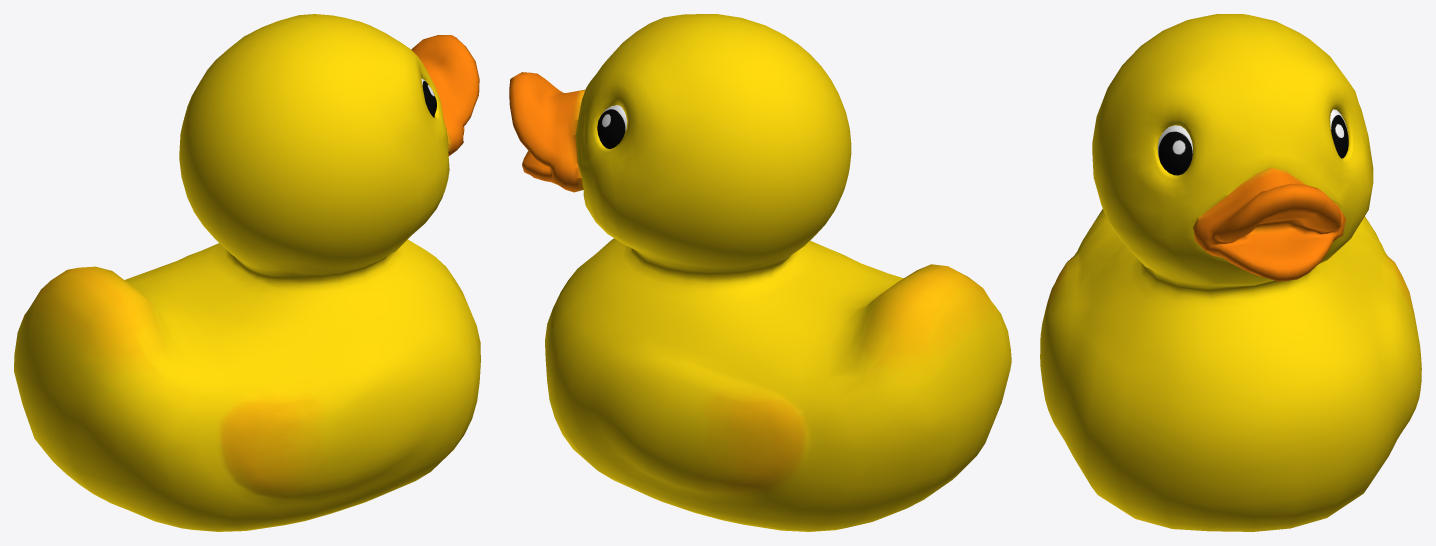
The model's file is Duck-transformed.glb.
3 renders of one model, left to right at view 1: azimuth 30°, elevation 25°; view 2: azimuth 150°, elevation 25°; view 3: azimuth 270°, elevation 25°, orthographic. The views are drawn at different scales.
Visible parts, largest first — view 1: LOD3spShape; view 2: LOD3spShape; view 3: LOD3spShape.
Part boxes in pixels (x1,y1,x2,y2): LOD3spShape: (14,14,480,531); LOD3spShape: (509,14,1011,531); LOD3spShape: (1040,14,1421,531).
Size of the model in its own units: 1.65 by 1.54 by 1.15.
1 material, 1 textured.
